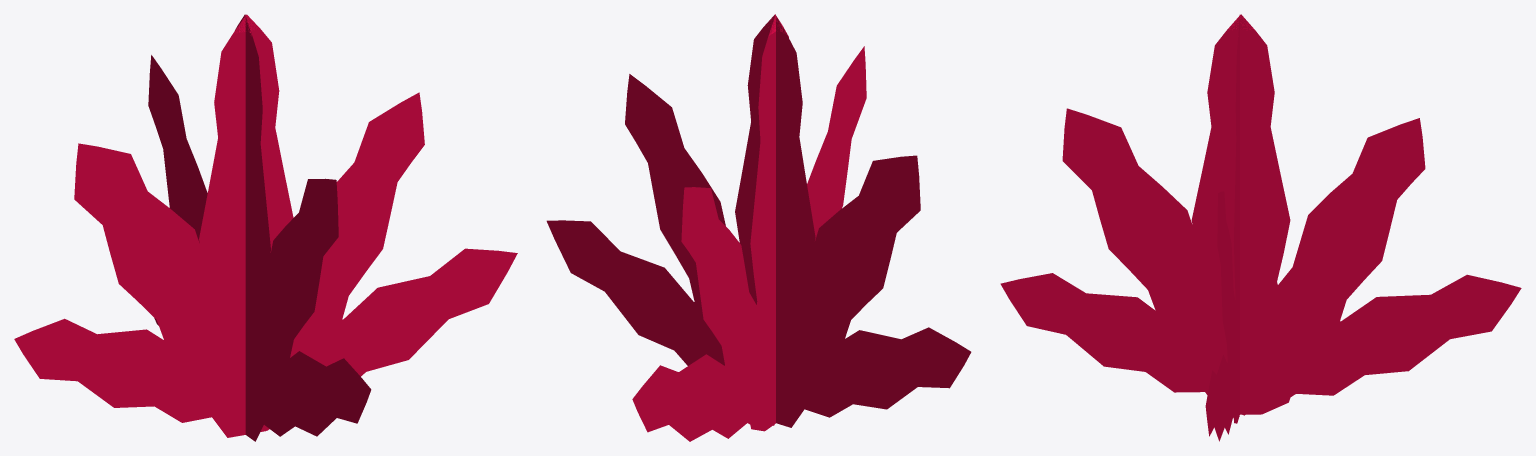
Rendered from M_Prop_KelpPlanes.fbx.
The picture shows the model from 3 angles, left to right: view 1: azimuth 30°, elevation 25°; view 2: azimuth 150°, elevation 25°; view 3: azimuth 270°, elevation 25°; orthographic projection. The views are drawn at different scales.
Parts seen in each view (by area): view 1: KelpPlanes; view 2: KelpPlanes; view 3: KelpPlanes.
Part boxes in pixels (box(x1,y1,x2,y2)): KelpPlanes: box(14, 14, 517, 441); KelpPlanes: box(546, 14, 971, 441); KelpPlanes: box(1000, 14, 1521, 441).
Bounding box in the file's own units: 529 × 533 × 453.
